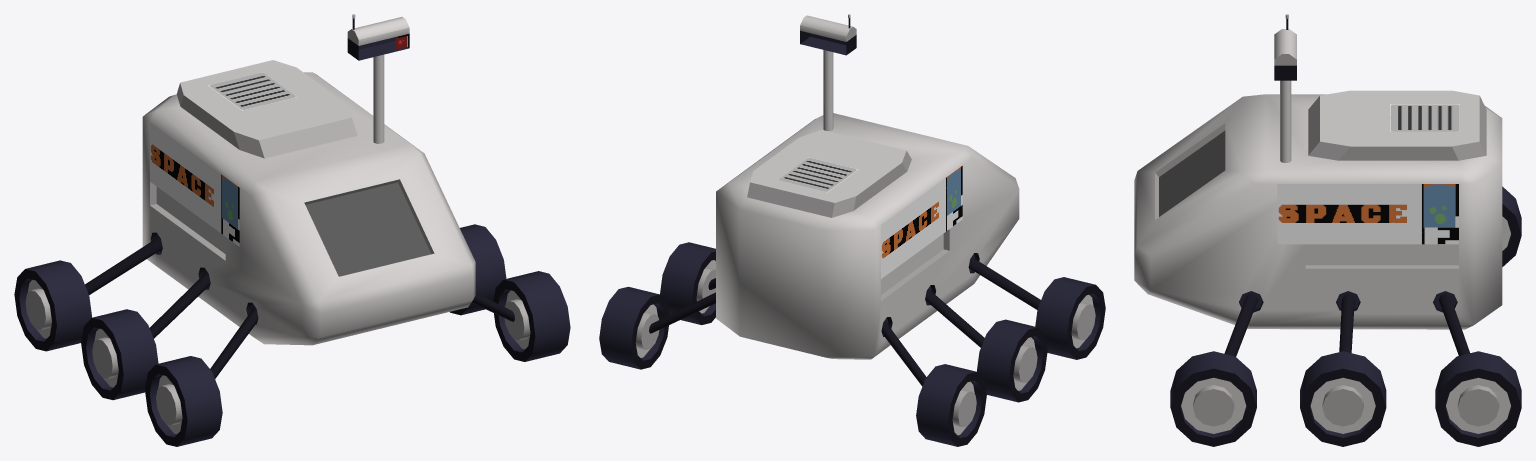
File: marsbot.fbx
The picture shows the model from 3 angles, left to right: view 1: azimuth 30°, elevation 25°; view 2: azimuth 150°, elevation 25°; view 3: azimuth 270°, elevation 25°; orthographic projection. The views are drawn at different scales.
Visible parts, largest first — view 1: marsbot; view 2: marsbot; view 3: marsbot.
Boxes of the visible parts, x1,y1,x2,y2 form: marsbot: (14, 14, 570, 446); marsbot: (599, 14, 1105, 446); marsbot: (1134, 14, 1521, 446).
Size of the model in its own units: 4.6 by 4 by 3.97.
